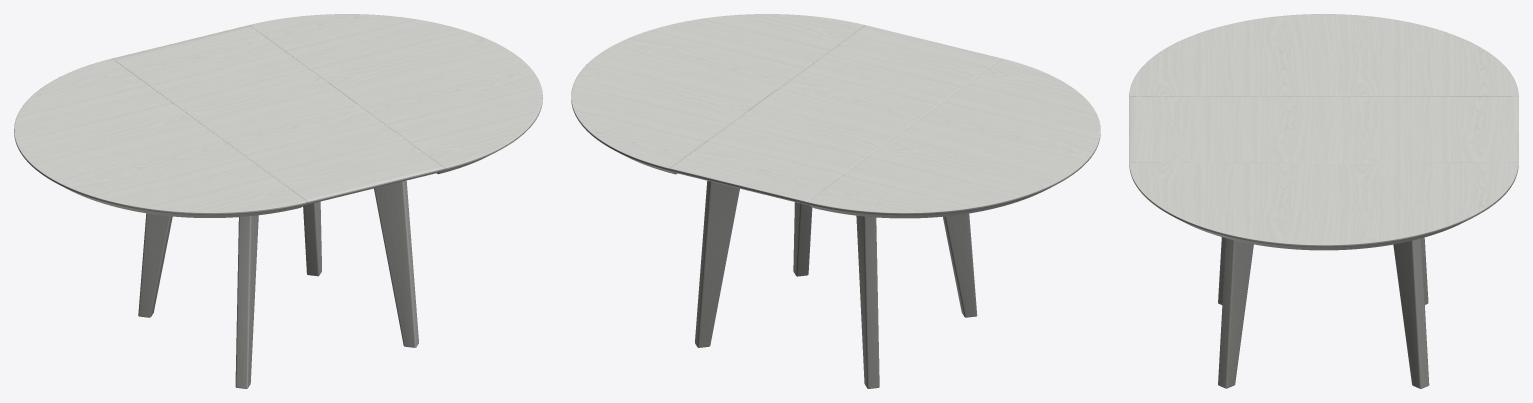
Rendered from urban-kruglyj_l63.glb.
3 views of the same model, side by side, from view 1: azimuth 30°, elevation 25°; view 2: azimuth 150°, elevation 25°; view 3: azimuth 270°, elevation 25° (orthographic).
Parts seen in each view (by area): view 1: urban-kruglyj_L63; view 2: urban-kruglyj_L63; view 3: urban-kruglyj_L63.
Boxes of the visible parts, x1,y1,x2,y2 form: urban-kruglyj_L63: (14,14,542,388); urban-kruglyj_L63: (571,14,1100,388); urban-kruglyj_L63: (1129,14,1518,388).
Bounding box in the file's own units: 1.75 × 0.7598 × 1.25.
Materials: 2 (2 with a texture image).
